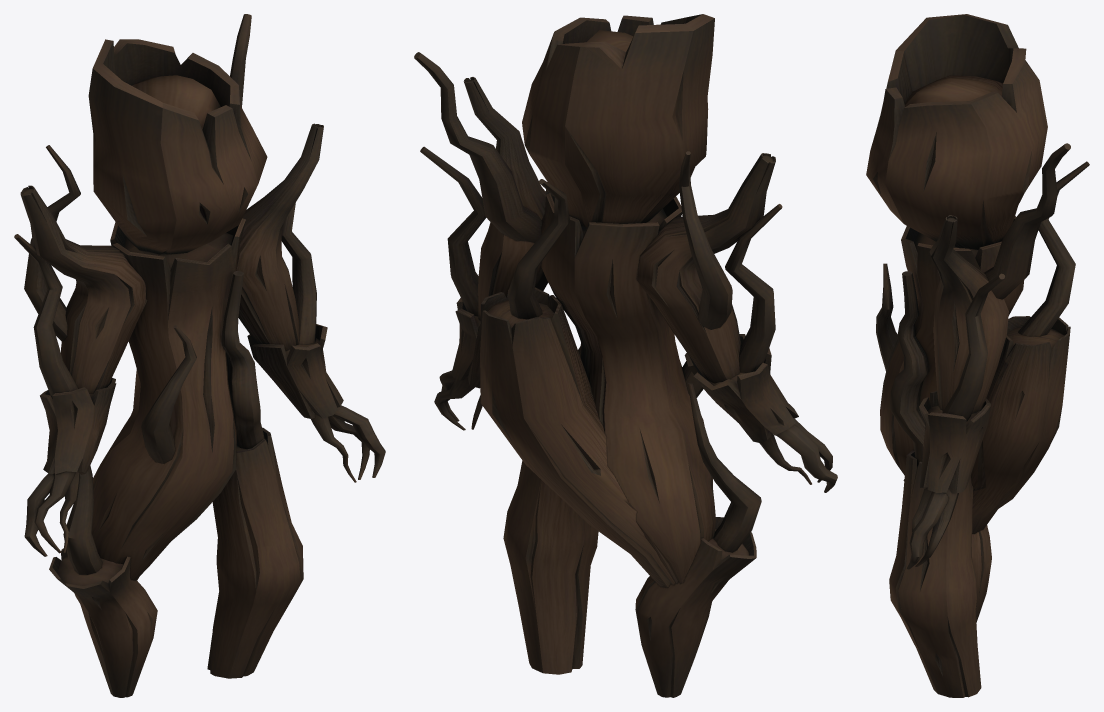
The model's file is Ent_Body.fbx.
The picture shows the model from 3 angles, left to right: view 1: azimuth 30°, elevation 25°; view 2: azimuth 150°, elevation 25°; view 3: azimuth 270°, elevation 25°; orthographic projection. The views are drawn at different scales.
Parts seen in each view (by area): view 1: NurbsPath.056; view 2: NurbsPath.056; view 3: NurbsPath.056.
Boxes of the visible parts, box(x1,y1,x2,y2) form: NurbsPath.056: box(14, 14, 385, 697); NurbsPath.056: box(414, 14, 837, 697); NurbsPath.056: box(866, 14, 1089, 697).
Bounding box in the file's own units: 105 × 173 × 56.9.
